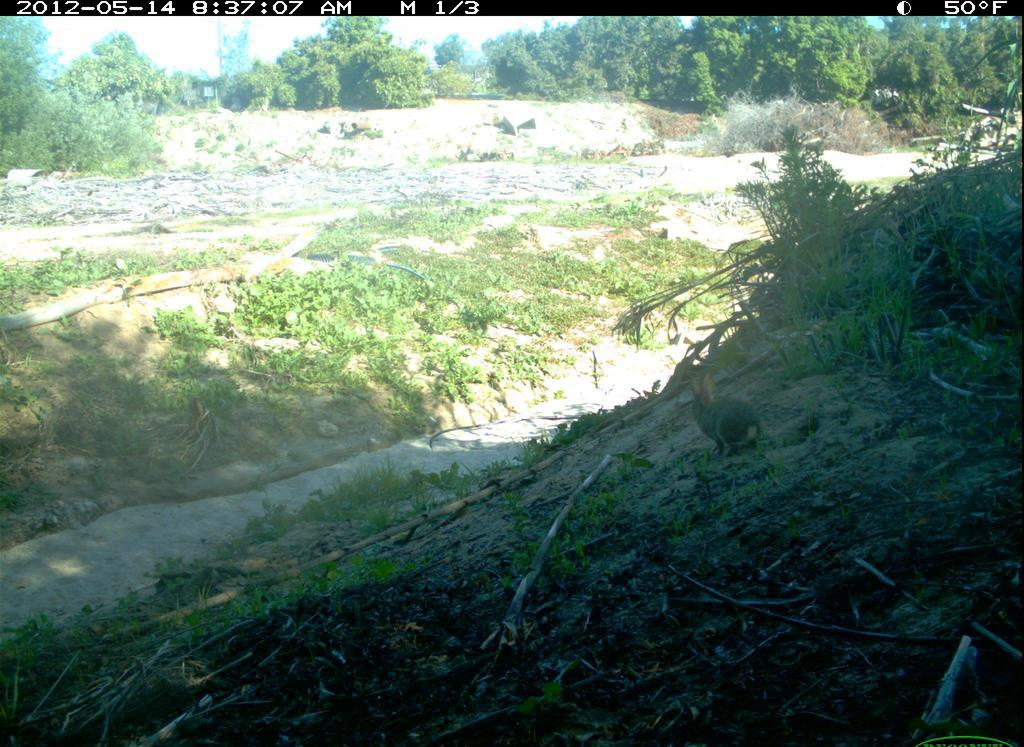rabbit: (678, 364, 771, 463)
